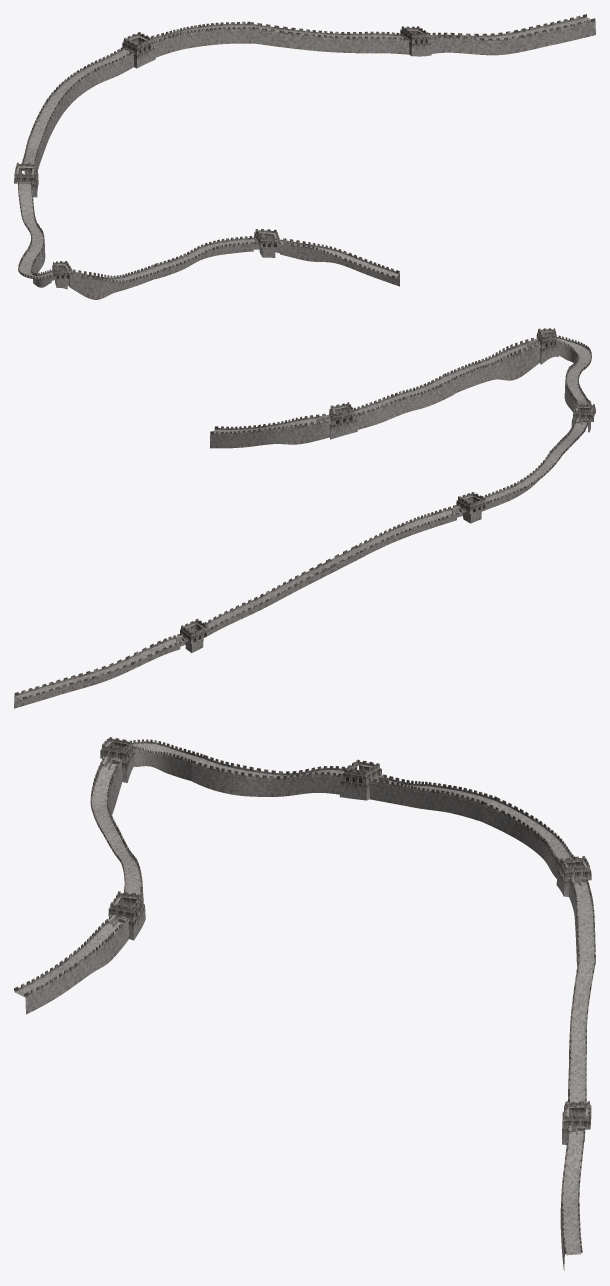
The model's file is demo_wall(opt).FBX.
3 renders of one model, top to bottom at view 1: azimuth 30°, elevation 25°; view 2: azimuth 210°, elevation 25°; view 3: azimuth 270°, elevation 25°, orthographic. The views are drawn at different scales.
Parts seen in each view (by area): view 1: Box173, Box172, Box179, Box170, Box171; view 2: Box179, Box173, Box170, Box172, Box171; view 3: Box171, Box179, Box173, Box172, Box170.
Boxes of the visible parts, x1=… form: Box173: x1=250, y1=14, x2=595, y2=56; Box172: x1=47, y1=21, x2=255, y2=116; Box179: x1=155, y1=229, x2=399, y2=286; Box170: x1=18, y1=250, x2=165, y2=299; Box171: x1=14, y1=98, x2=60, y2=267; Box179: x1=210, y1=374, x2=454, y2=448; Box173: x1=14, y1=546, x2=360, y2=708; Box170: x1=444, y1=328, x2=591, y2=393; Box172: x1=354, y1=451, x2=562, y2=561; Box171: x1=550, y1=366, x2=595, y2=455; Box171: x1=191, y1=755, x2=497, y2=821; Box179: x1=14, y1=828, x2=145, y2=1014; Box173: x1=560, y1=958, x2=595, y2=1270; Box172: x1=482, y1=797, x2=595, y2=966; Box170: x1=90, y1=737, x2=204, y2=833.
Size of the model in its own units: 92512 by 12538 by 50109.
